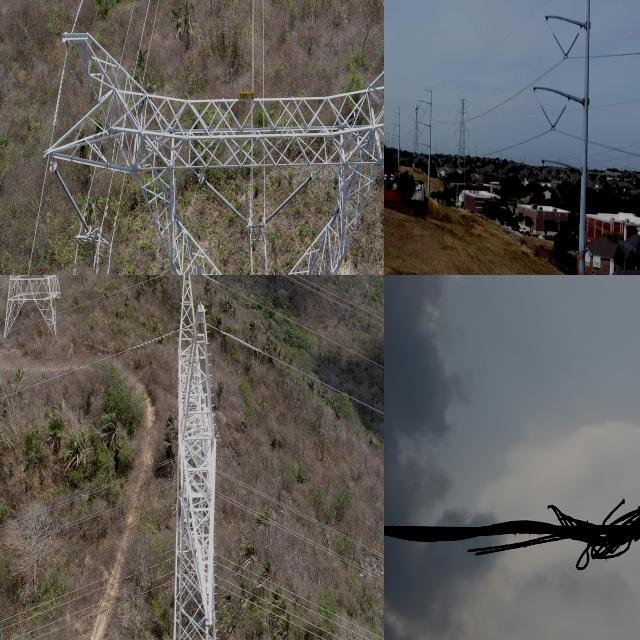杆塔: (33, 15, 384, 275), (176, 275, 220, 640), (7, 275, 61, 339), (446, 90, 474, 210), (411, 102, 421, 170)
正常绝缘子: (46, 159, 94, 253), (197, 169, 252, 231), (262, 170, 316, 229), (550, 104, 568, 132), (540, 103, 557, 132), (564, 31, 580, 60), (553, 32, 569, 59)
电缆破损: (384, 475, 640, 574)
